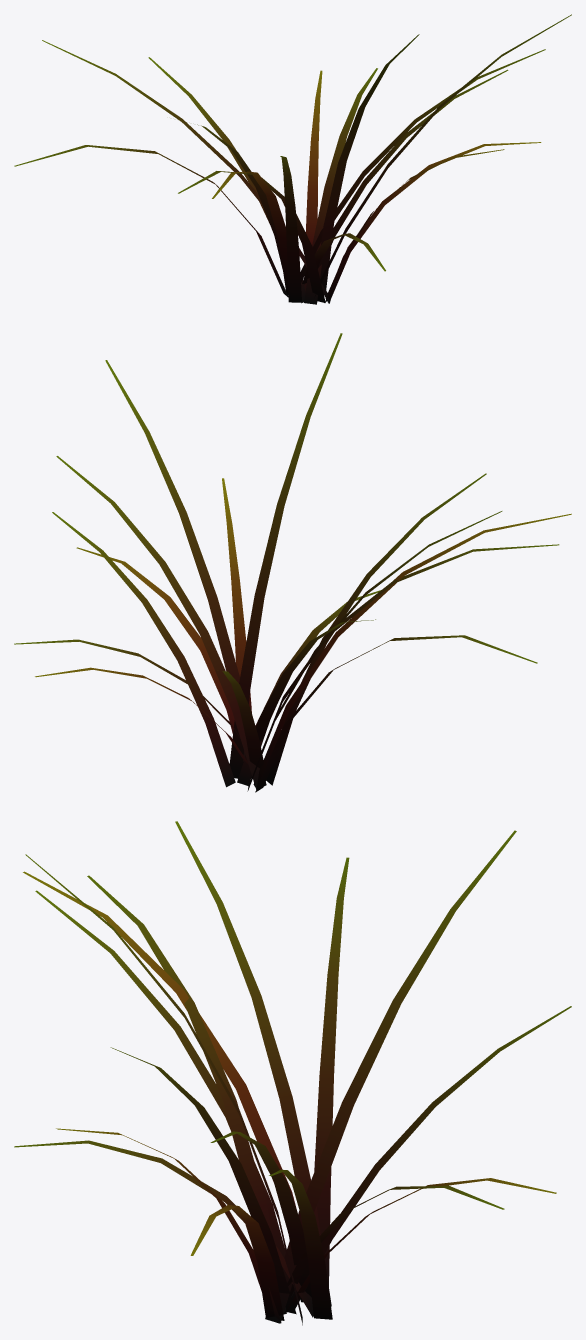
Rendered from elephant_grass_b.glb.
3 renders of one model, top to bottom at view 1: azimuth 30°, elevation 25°; view 2: azimuth 150°, elevation 25°; view 3: azimuth 270°, elevation 25°, orthographic. The views are drawn at different scales.
Visible parts, largest first — view 1: elephant_grass_b; view 2: elephant_grass_b; view 3: elephant_grass_b.
Part boxes in pixels (box(x1,y1,x2,y2)): elephant_grass_b: box(14, 14, 571, 304); elephant_grass_b: box(14, 333, 571, 792); elephant_grass_b: box(14, 821, 571, 1325).
Bounding box in the file's own units: 2.51 × 1.64 × 1.77.
Materials: 1 (1 with a texture image).
